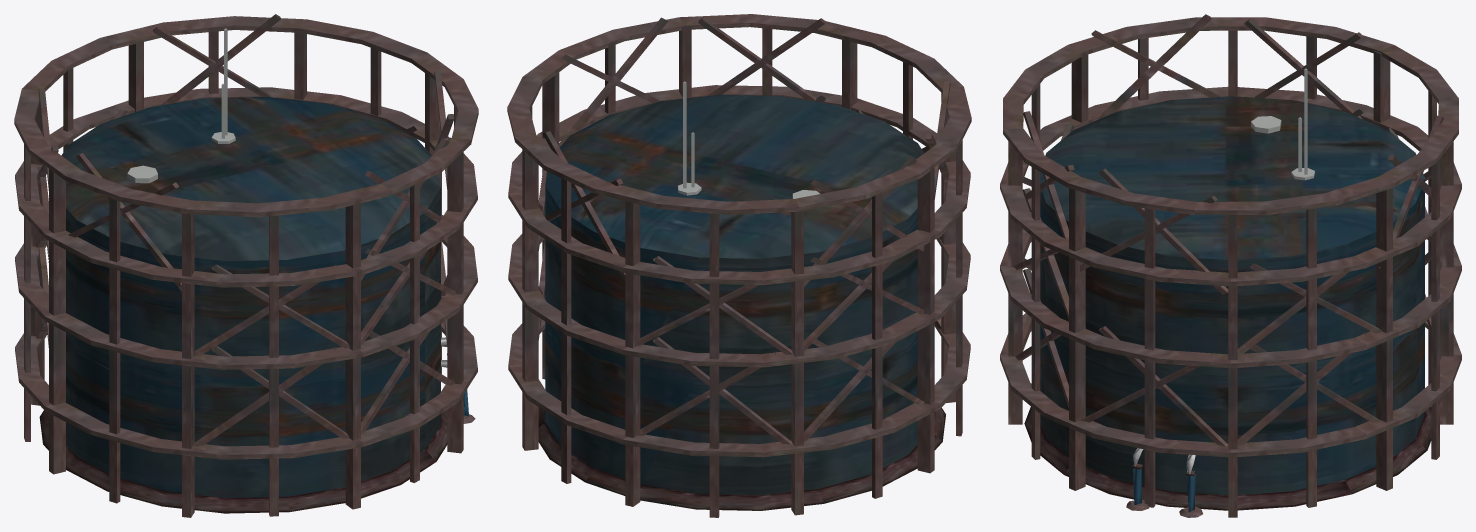
The model's file is ind-tank-2.zfix-v14.lod1.glb.
3 views of the same model, side by side, from view 1: azimuth 30°, elevation 25°; view 2: azimuth 150°, elevation 25°; view 3: azimuth 270°, elevation 25° (orthographic).
Visible parts, largest first — view 1: Industrial_Tank_2_Industrial_Walls_FLR_2_0; view 2: Industrial_Tank_2_Industrial_Walls_FLR_2_0; view 3: Industrial_Tank_2_Industrial_Walls_FLR_2_0.
Boxes of the visible parts, box(x1,y1,x2,y2) form: Industrial_Tank_2_Industrial_Walls_FLR_2_0: box(14, 14, 478, 517); Industrial_Tank_2_Industrial_Walls_FLR_2_0: box(507, 14, 971, 517); Industrial_Tank_2_Industrial_Walls_FLR_2_0: box(1000, 14, 1461, 517).
Size of the model in its own units: 19.78 by 17.14 by 19.78.
Materials: 1 (1 with a texture image).
